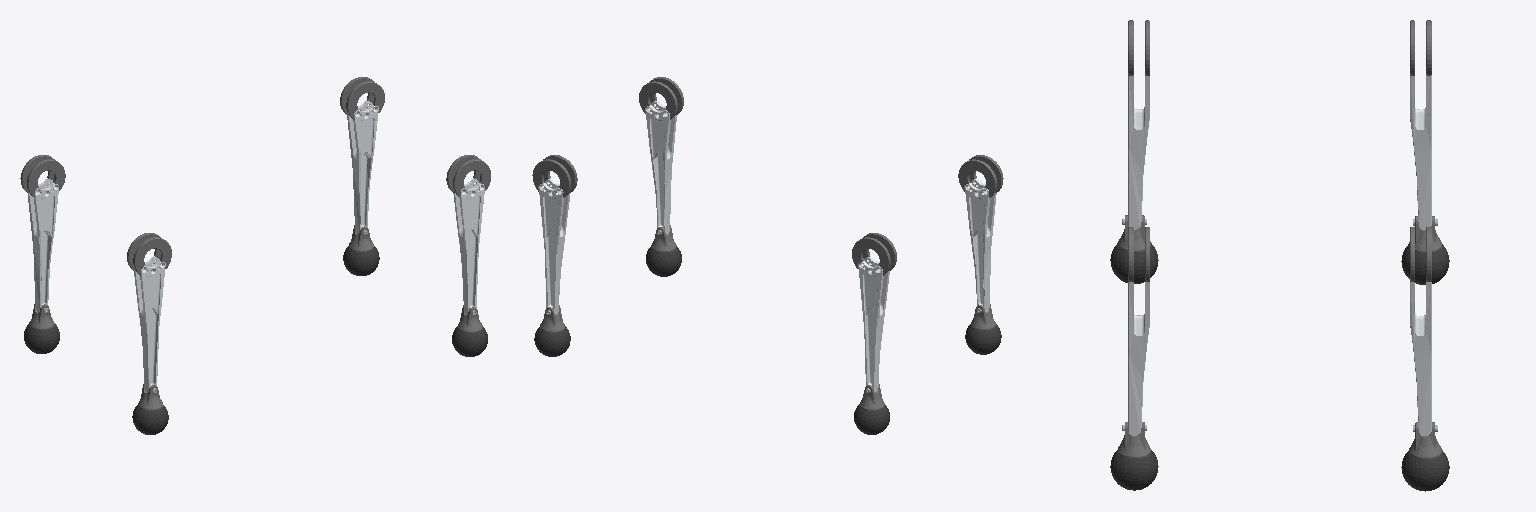
The robot description file, URDF, robot "mini_cheetah_vision":
<?xml version="1.0" ?>
<robot name="mini_cheetah_vision" xmlns:xacro="http://ros.org/wiki/xacro">
    <link name="base">
        <visual>
            <geometry>
                <mesh filename="package://ocs2_robotic_assets/resources/mcc/meshes/mini_vision_base.dae"/>
            </geometry>
            <origin rpy="0.0 0.0 0.0" xyz="0.0 0.0 0.0"/>
        </visual>
        <collision>
            <geometry>
                <mesh filename="package://ocs2_robotic_assets/resources/mcc/meshes/mini_vision_base.dae"/>
            </geometry>
            <origin rpy="0 0 0" xyz="0 0 0"/>
        </collision>
    </link>
    <link name="base_inertia">
          <inertial>
              <mass value="3.3"/>
              <origin xyz="0.0 0.0 0.0"/>
              <inertia ixx="0.011253" ixy="0" ixz="0" iyy="0.362030" iyz="0" izz="0.042673"/>
          </inertial>
    </link>
    <joint name="base_inertia_joint" type="fixed">
        <origin rpy="0 0 0" xyz="0 0 0"/>
        <parent link="base"/>
        <child link="base_inertia"/>
    </joint>

    <!--!!!!!!!!!!!! Front Right Leg !!!!!!!!!!!!!!!!!!!!!!!!!!!!!!!!!!!!-->
    <joint name="RF_HAA" type="revolute">
        <axis xyz="1 0 0"/>
        <origin rpy="0 0 0" xyz="0.14775 -0.049 0.0"/>
        <parent link="base"/>
        <child link="abduct_fr"/>
        <limit effort="17.0" lower="-3.14" upper="3.14" velocity="40.0"/>
    </joint>
    <link name="abduct_fr">
        <inertial>
            <mass value="0.54"/>
            <origin xyz="0.055 -0.036 0."/>
            <inertia ixx="0.000381" ixy="0.000058" ixz="0.00000045" iyy="0.000560" iyz="0.00000095" izz="0.000444"/>
        </inertial>
        <visual>
            <geometry>
                <mesh filename="package://ocs2_robotic_assets/resources/mcc/meshes/mini_vision_abd.dae"/>
            </geometry>
            <origin rpy="0.0 0.0 0.0" xyz="0.0 0.0 0.0"/>
        </visual>
        <collision>
            <geometry>
                <mesh filename="package://ocs2_robotic_assets/resources/mcc/meshes/mini_vision_abd.dae"/>
            </geometry>
            <origin rpy="0. 0. 0." xyz="0. 0 0"/>
        </collision>
    </link>

    <joint name="RF_HFE" type="revolute">
        <axis xyz="0 -1 0"/>
        <origin rpy="0.0 0.0 0.0" xyz="0.055 -0.019 0.00"/>
        <parent link="abduct_fr"/>
        <child link="thigh_fr"/>
        <limit effort="17.0" lower="-3.14" upper="3.14" velocity="40.0"/>
    </joint>
    <link name="thigh_fr">
        <inertial>
            <mass value="0.634"/>
            <origin xyz="0.0 0.016 -0.02"/>
            <inertia ixx="0.001983" ixy="0.000245" ixz="0.000013" iyy="0.002103" iyz="0.0000015" izz="0.000408"/>
        </inertial>
        <visual>
            <geometry>
                <mesh filename="package://ocs2_robotic_assets/resources/mcc/meshes/mini_vision_upper_leg.dae"/>
            </geometry>
            <origin rpy="0.0 0.0 0.0" xyz="0.0 0.0 0.0"/>
        </visual>
        <collision>
            <geometry>
                <mesh filename="package://ocs2_robotic_assets/resources/mcc/meshes/mini_vision_upper_leg.dae"/>
            </geometry>
            <origin rpy="0 0 0" xyz="0 0 0"/>
        </collision>
    </link>

    <joint name="RF_KFE" type="revolute">
        <axis xyz="0 -1 0"/>
        <origin rpy="0.0 0 0.0" xyz="0.0 -0.049 -0.2085"/>
        <parent link="thigh_fr"/>
        <child link="shank_fr"/>
        <limit effort="17.0" lower="-3.14" upper="3.14" velocity="40.0"/>
    </joint>
    <link name="shank_fr">
        <inertial>
            <mass value="0.064"/>
            <origin xyz="0.0 0.0 -0.061"/>
            <inertia ixx="0.000245" ixy="0" ixz="0.0" iyy="0.000248" iyz="0" izz="0.000006"/>
        </inertial>
        <visual>
            <geometry>
                <mesh filename="package://ocs2_robotic_assets/resources/mcc/meshes/lower_leg.dae"/>
            </geometry>
            <origin rpy="0.0 0.0 0.0" xyz="0.0 0.0 0.0"/>
        </visual>
        <collision>
            <geometry>
                <mesh filename="package://ocs2_robotic_assets/resources/mcc/meshes/lower_leg.dae"/>
            </geometry>
            <origin rpy="0 0 0" xyz="0 0 0"/>
        </collision>
    </link>

    <!--!!!!!!!!!!!! Front Left Leg !!!!!!!!!!!!!!!!!!!!!!!!!!!!!!!!!!!!-->
    <joint name="LF_HAA" type="revolute">
        <axis xyz="1 0 0"/>
        <origin rpy="0 0 0" xyz="0.14775 0.049 0.0"/>
        <parent link="base"/>
        <child link="abduct_fl"/>
        <limit effort="17.0" lower="-3.14" upper="3.14" velocity="40.0"/>
    </joint>
    <link name="abduct_fl">
        <inertial>
            <mass value="0.54"/>
            <origin xyz="0.055 0.036 0."/>
            <inertia ixx="0.000381" ixy="0.000058" ixz="0.00000045" iyy="0.000560" iyz="0.00000095" izz="0.000444"/>
        </inertial>
        <visual>
            <geometry>
                <mesh filename="package://ocs2_robotic_assets/resources/mcc/meshes/mini_vision_abd.dae"/>
            </geometry>
            <origin rpy="3.141592 0.0 0.0" xyz="0.0 0.0 0.0"/>
        </visual>
        <collision>
            <geometry>
                <mesh filename="package://ocs2_robotic_assets/resources/mcc/meshes/mini_vision_abd.dae"/>
            </geometry>
            <origin rpy="3.141592 0. 0." xyz="0. 0 0"/>
        </collision>
    </link>

    <joint name="LF_HFE" type="revolute">
        <axis xyz="0 -1 0"/>
        <origin rpy="0.0 0.0 0.0" xyz="0.055 0.019 0.00"/>
        <parent link="abduct_fl"/>
        <child link="thigh_fl"/>
        <limit effort="17.0" lower="-3.14" upper="3.14" velocity="40.0"/>
    </joint>
    <link name="thigh_fl">
        <inertial>
            <mass value="0.634"/>
            <origin xyz="0.0 0.016 -0.02"/>
            <inertia ixx="0.001983" ixy="0.000245" ixz="0.000013" iyy="0.002103" iyz="0.0000015" izz="0.000408"/>
        </inertial>
        <visual>
            <geometry>
                <mesh filename="package://ocs2_robotic_assets/resources/mcc/meshes/mini_vision_upper_leg.dae"/>
            </geometry>
            <origin rpy="0.0 0 3.141592" xyz="0.0 0.0 0.0"/>
        </visual>
        <collision>
            <geometry>
                <mesh filename="package://ocs2_robotic_assets/resources/mcc/meshes/mini_vision_upper_leg.dae"/>
            </geometry>
            <origin rpy="0 0 3.141592" xyz="0 0 0"/>
        </collision>
    </link>

    <joint name="LF_KFE" type="revolute">
        <axis xyz="0 -1 0"/>
        <origin rpy="0.0 0 0.0" xyz="0.0 0.049 -0.2085"/>
        <parent link="thigh_fl"/>
        <child link="shank_fl"/>
        <limit effort="17.0" lower="-3.14" upper="3.14" velocity="40.0"/>
    </joint>
    <link name="shank_fl">
        <inertial>
            <mass value="0.064"/>
            <origin xyz="0.0 0.0 -0.061"/>
            <inertia ixx="0.000245" ixy="0" ixz="0.0" iyy="0.000248" iyz="0" izz="0.000006"/>
        </inertial>
        <visual>
            <geometry>
                <mesh filename="package://ocs2_robotic_assets/resources/mcc/meshes/lower_leg.dae"/>
            </geometry>
            <origin rpy="0.0 0.0 3.141592" xyz="0.0 0.0 0.0"/>
        </visual>
        <collision>
            <geometry>
                <mesh filename="package://ocs2_robotic_assets/resources/mcc/meshes/lower_leg.dae"/>
            </geometry>
            <origin rpy="0 0 3.141592" xyz="0 0 0"/>
        </collision>
    </link>

    <!--!!!!!!!!!!!! Hind Right Leg !!!!!!!!!!!!!!!!!!!!!!!!!!!!!!!!!!!!-->
    <joint name="RH_HAA" type="revolute">
        <axis xyz="-1 0 0"/>
        <origin rpy="0 3.141592 0" xyz="-0.14775 -0.049 0.0"/>
        <parent link="base"/>
        <child link="abduct_hr"/>
        <limit effort="17.0" lower="-3.14" upper="3.14" velocity="40.0"/>
    </joint>
    <link name="abduct_hr">
        <inertial>
            <mass value="0.54"/>
            <origin xyz="0.055 -0.036 0."/>
            <inertia ixx="0.000381" ixy="0.000058" ixz="0.00000045" iyy="0.000560" iyz="0.00000095" izz="0.000444"/>
        </inertial>
        <visual>
            <geometry>
                <mesh filename="package://ocs2_robotic_assets/resources/mcc/meshes/mini_vision_abd.dae"/>
            </geometry>
            <origin rpy="0.0 0.0 0.0" xyz="0.0 0.0 0.0"/>
        </visual>
        <collision>
            <geometry>
                <mesh filename="package://ocs2_robotic_assets/resources/mcc/meshes/mini_vision_abd.dae"/>
            </geometry>
            <origin rpy="0. 0. 0." xyz="0. 0 0"/>
        </collision>
    </link>

    <joint name="RH_HFE" type="revolute">
        <axis xyz="0 -1 0"/>
        <origin rpy="0.0 3.141592 0.0" xyz="0.055 -0.019 0.00"/>
        <parent link="abduct_hr"/>
        <child link="thigh_hr"/>
        <limit effort="17.0" lower="-3.14" upper="3.14" velocity="40.0"/>
    </joint>
    <link name="thigh_hr">
        <inertial>
            <mass value="0.634"/>
            <origin xyz="0.0 0.016 -0.02"/>
            <inertia ixx="0.001983" ixy="0.000245" ixz="0.000013" iyy="0.002103" iyz="0.0000015" izz="0.000408"/>
        </inertial>
        <visual>
            <geometry>
                <mesh filename="package://ocs2_robotic_assets/resources/mcc/meshes/mini_vision_upper_leg.dae"/>
            </geometry>
            <origin rpy="0.0 0.0 0.0" xyz="0.0 0.0 0.0"/>
        </visual>
        <collision>
            <geometry>
                <mesh filename="package://ocs2_robotic_assets/resources/mcc/meshes/mini_vision_upper_leg.dae"/>
            </geometry>
            <origin rpy="0 0 0" xyz="0 0 0"/>
        </collision>
    </link>

    <joint name="RH_KFE" type="revolute">
        <axis xyz="0 -1 0"/>
        <origin rpy="0.0 0 0.0" xyz="0.0 -0.049 -0.2085"/>
        <parent link="thigh_hr"/>
        <child link="shank_hr"/>
        <limit effort="17.0" lower="-3.14" upper="3.14" velocity="40.0"/>
    </joint>
    <link name="shank_hr">
        <inertial>
            <mass value="0.064"/>
            <origin xyz="0.0 0.0 -0.061"/>
            <inertia ixx="0.000245" ixy="0" ixz="0.0" iyy="0.000248" iyz="0" izz="0.000006"/>
        </inertial>
        <visual>
            <geometry>
                <mesh filename="package://ocs2_robotic_assets/resources/mcc/meshes/lower_leg.dae"/>
            </geometry>
            <origin rpy="0.0 0.0 0.0" xyz="0.0 0.0 0.0"/>
        </visual>
        <collision>
            <geometry>
                <mesh filename="package://ocs2_robotic_assets/resources/mcc/meshes/lower_leg.dae"/>
            </geometry>
            <origin rpy="0 0 0" xyz="0 0 0"/>
        </collision>
    </link>

    <!--!!!!!!!!!!!! Hind Left Leg !!!!!!!!!!!!!!!!!!!!!!!!!!!!!!!!!!!!-->
    <joint name="LH_HAA" type="revolute">
        <axis xyz="-1 0 0"/>
        <origin rpy="0 3.141592 0" xyz="-0.14775 0.049 0.0"/>
        <parent link="base"/>
        <child link="abduct_hl"/>
        <limit effort="17.0" lower="-3.14" upper="3.14" velocity="40.0"/>
    </joint>
    <link name="abduct_hl">
        <inertial>
            <mass value="0.54"/>
            <origin xyz="0.055 0.036 0."/>
            <inertia ixx="0.000381" ixy="0.000058" ixz="0.00000045" iyy="0.000560" iyz="0.00000095" izz="0.000444"/>
        </inertial>
        <visual>
            <geometry>
                <mesh filename="package://ocs2_robotic_assets/resources/mcc/meshes/mini_vision_abd.dae"/>
            </geometry>
            <origin rpy="3.141592 0.0 0.0" xyz="0.0 0.0 0.0"/>
        </visual>
        <collision>
            <geometry>
                <mesh filename="package://ocs2_robotic_assets/resources/mcc/meshes/mini_vision_abd.dae"/>
            </geometry>
            <origin rpy="3.141592 0. 0." xyz="0. 0 0"/>
        </collision>
    </link>

    <joint name="LH_HFE" type="revolute">
        <axis xyz="0 -1 0"/>
        <origin rpy="0.0 3.141592 0.0" xyz="0.055 0.019 0.00"/>
        <parent link="abduct_hl"/>
        <child link="thigh_hl"/>
        <limit effort="17.0" lower="-3.14" upper="3.14" velocity="40.0"/>
    </joint>
    <link name="thigh_hl">
        <inertial>
            <mass value="0.634"/>
            <origin xyz="0.0 0.016 -0.02"/>
            <inertia ixx="0.001983" ixy="0.000245" ixz="0.000013" iyy="0.002103" iyz="0.0000015" izz="0.000408"/>
        </inertial>
        <visual>
            <geometry>
                <mesh filename="package://ocs2_robotic_assets/resources/mcc/meshes/mini_vision_upper_leg.dae"/>
            </geometry>
            <origin rpy="0.0 0 3.141592" xyz="0.0 0.0 0.0"/>
        </visual>
        <collision>
            <geometry>
                <mesh filename="package://ocs2_robotic_assets/resources/mcc/meshes/mini_vision_upper_leg.dae"/>
            </geometry>
            <origin rpy="0 0 3.141592" xyz="0 0 0"/>
        </collision>
    </link>

    <joint name="LH_KFE" type="revolute">
        <axis xyz="0 -1 0"/>
        <origin rpy="0.0 0 0.0" xyz="0.0 0.049 -0.2085"/>
        <parent link="thigh_hl"/>
        <child link="shank_hl"/>
        <limit effort="17.0" lower="-3.14" upper="3.14" velocity="40.0"/>
    </joint>
    <link name="shank_hl">
        <inertial>
            <mass value="0.064"/>
            <origin xyz="0.0 0.0 -0.061"/>
            <inertia ixx="0.000245" ixy="0" ixz="0.0" iyy="0.000248" iyz="0" izz="0.000006"/>
        </inertial>
        <visual>
            <geometry>
                <mesh filename="package://ocs2_robotic_assets/resources/mcc/meshes/lower_leg.dae"/>
            </geometry>
            <origin rpy="0.0 0.0 3.141592" xyz="0.0 0.0 0.0"/>
        </visual>
        <collision>
            <geometry>
                <mesh filename="package://ocs2_robotic_assets/resources/mcc/meshes/lower_leg.dae"/>
            </geometry>
            <origin rpy="0 0 3.141592" xyz="0 0 0"/>
        </collision>
    </link>






	    <joint name="LH_shank_fixed_LH_FOOT" type="fixed">
        <parent link="shank_hl"/>
        <child link="LH_FOOT"/>
        <origin rpy="0 0 0" xyz="-0.00001 0.01305 -0.19111"/>
    </joint>
    <!-- Foot link -->
    <link name="LH_FOOT">
        <!-- Adapter collision -->
        <collision>
            <origin rpy="0 0 0" xyz="0 0 0.168985"/>
            <geometry>
                <cylinder length="0.282504" radius="0.0175"/>
            </geometry>
        </collision>
        <!-- Foot collision -->
        <collision>
            <origin xyz="0 0 0.0225"/>
            <geometry>
                <sphere radius="0.03"/>
            </geometry>
        </collision>
        <inertial>
            <origin rpy="0 0 0" xyz="-0.00948 -0.00948 0.1468"/>
            <mass value="0.25"/>
            <inertia ixx="0.00317174097" ixy="-2.63048e-06" ixz="-6.815581e-05" iyy="0.00317174092" iyz="6.815583e-05" izz="8.319196e-05"/>
        </inertial>
</link>

	<joint name="RH_shank_fixed_RH_FOOT" type="fixed">
        <parent link="shank_hr"/>
        <child link="RH_FOOT"/>
        <origin rpy="0 0 0" xyz="-0.00001 0.01305 -0.19111"/>
    </joint>
    <!-- Foot link -->
    <link name="RH_FOOT">
        <!-- Adapter collision -->
        <collision>
            <origin rpy="0 0 0" xyz="0 0 0.168985"/>
            <geometry>
                <cylinder length="0.282504" radius="0.0175"/>
            </geometry>
        </collision>
        <!-- Foot collision -->
        <collision>
            <origin xyz="0 0 0.0225"/>
            <geometry>
                <sphere radius="0.03"/>
            </geometry>
        </collision>
        <inertial>
            <origin rpy="0 0 0" xyz="-0.00948 -0.00948 0.1468"/>
            <mass value="0.25"/>
            <inertia ixx="0.00317174097" ixy="-2.63048e-06" ixz="-6.815581e-05" iyy="0.00317174092" iyz="6.815583e-05" izz="8.319196e-05"/>
        </inertial>
</link>

	<joint name="LF_shank_fixed_LF_FOOT" type="fixed">
		<parent link="shank_fl"/>
        <child link="LF_FOOT"/>
        <origin rpy="0 0 0" xyz="-0.00001 0.01305 -0.19111"/>
    </joint>
    <!-- Foot link -->
    <link name="LF_FOOT">
        <!-- Adapter collision -->
        <collision>
            <origin rpy="0 0 0" xyz="0 0 0.168985"/>
            <geometry>
                <cylinder length="0.282504" radius="0.0175"/>
            </geometry>
        </collision>
        <!-- Foot collision -->
        <collision>
            <origin xyz="0 0 0.0225"/>
            <geometry>
                <sphere radius="0.03"/>
            </geometry>
        </collision>
        <inertial>
            <origin rpy="0 0 0" xyz="-0.00948 -0.00948 0.1468"/>
            <mass value="0.25"/>
            <inertia ixx="0.00317174097" ixy="-2.63048e-06" ixz="-6.815581e-05" iyy="0.00317174092" iyz="6.815583e-05" izz="8.319196e-05"/>
        </inertial>
</link>

	<joint name="RF_shank_fixed_RF_FOOT" type="fixed">
        <parent link="shank_fr"/>
        <child link="RF_FOOT"/>
        <origin rpy="0 0 0" xyz="-0.00001 0.01305 -0.19111"/>
    </joint>
    <!-- Foot link -->
    <link name="RF_FOOT">
        <!-- Adapter collision -->
        <collision>
            <origin rpy="0 0 0" xyz="0 0 0.168985"/>
            <geometry>
                <cylinder length="0.282504" radius="0.0175"/>
            </geometry>
        </collision>
        <!-- Foot collision -->
        <collision>
            <origin xyz="0 0 0.0225"/>
            <geometry>
                <sphere radius="0.03"/>
            </geometry>
        </collision>
        <inertial>
            <origin rpy="0 0 0" xyz="-0.00948 -0.00948 0.1468"/>
            <mass value="0.25"/>
            <inertia ixx="0.00317174097" ixy="-2.63048e-06" ixz="-6.815581e-05" iyy="0.00317174092" iyz="6.815583e-05" izz="8.319196e-05"/>
        </inertial>
    </link>








</robot>

--- Facts derived from the render (not from the file) ---
The picture shows the robot from 3 angles, left to right: view 1: azimuth 30°, elevation 25°; view 2: azimuth 150°, elevation 25°; view 3: azimuth 270°, elevation 25°; orthographic projection.
Robot: mini_cheetah_vision — 18 links, 17 joints (12 revolute, 5 fixed); root link base; default pose: every joint at zero.
Visible links, largest first — view 1: shank_hr, shank_fr, shank_fl, shank_hl; view 2: shank_hl, shank_fl, shank_fr, shank_hr; view 3: shank_fl, shank_fr, shank_hl, shank_hr.
Link boxes in pixels (<box>): shank_hr: <box>127,233,171,434</box>; shank_fr: <box>446,155,490,356</box>; shank_fl: <box>340,77,384,275</box>; shank_hl: <box>20,155,65,353</box>; shank_hl: <box>852,233,896,434</box>; shank_fl: <box>532,155,577,356</box>; shank_fr: <box>639,77,683,276</box>; shank_hr: <box>958,155,1003,354</box>; shank_fl: <box>1401,227,1449,491</box>; shank_fr: <box>1110,227,1158,490</box>; shank_hl: <box>1401,20,1449,284</box>; shank_hr: <box>1110,20,1158,283</box>.
Size in the robot's own frame: 0.4529 by 0.2819 by 0.2381 metres.
4 mesh visuals loaded from 4 distinct referenced files (1 Collada DAE); not drawn: 9 (reference not matched to a file when rendering).